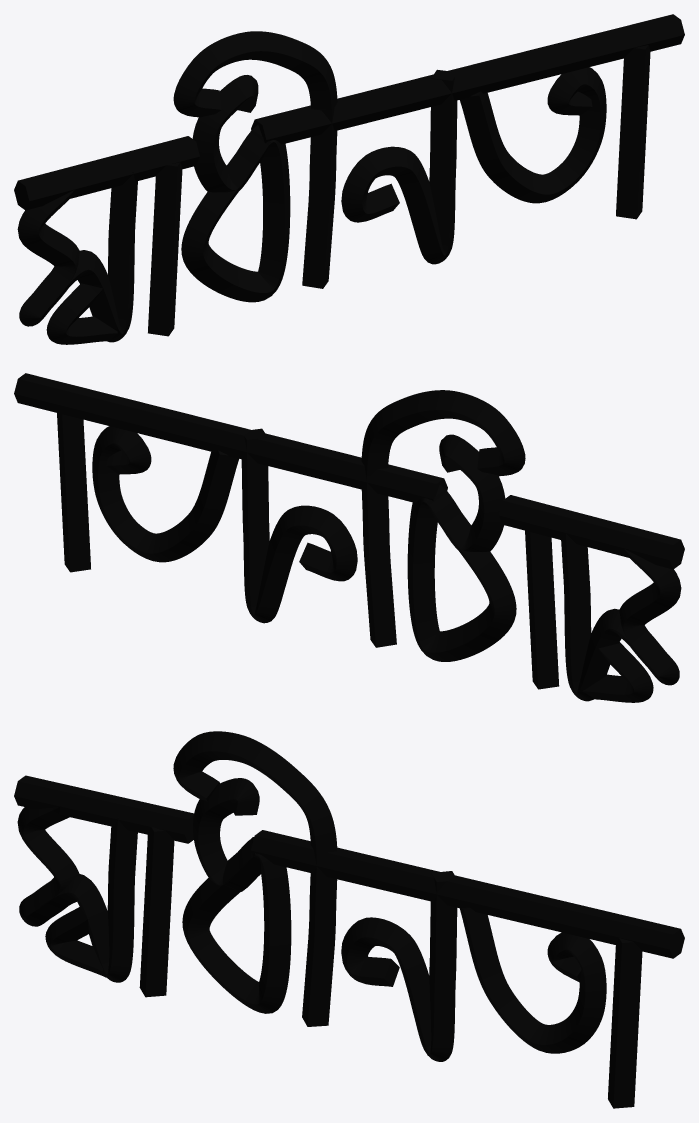
The model's file is shadhinota.glb.
3 views of the same model, one above another, from view 1: azimuth 30°, elevation 25°; view 2: azimuth 150°, elevation 25°; view 3: azimuth 330°, elevation 25° (orthographic).
Visible parts, largest first — view 1: mesh_id55, mesh_id61, mesh_id73, mesh_id79, mesh_id33, mesh_id87, mesh_id29, mesh_id94, mesh_id49, mesh_id39; view 2: mesh_id55, mesh_id61, mesh_id73, mesh_id79, mesh_id33, mesh_id87, mesh_id29, mesh_id94, mesh_id49, mesh_id39; view 3: mesh_id55, mesh_id61, mesh_id73, mesh_id33, mesh_id79, mesh_id87, mesh_id29, mesh_id94, mesh_id49, mesh_id39.
Boxes of the visible parts, x1,y1,x2,y2 form: mesh_id55: (181, 75, 290, 302); mesh_id61: (251, 14, 684, 144); mesh_id73: (173, 31, 337, 288); mesh_id79: (341, 69, 457, 264); mesh_id33: (17, 171, 137, 342); mesh_id87: (460, 67, 606, 203); mesh_id29: (14, 136, 199, 210); mesh_id94: (616, 45, 650, 219); mesh_id49: (148, 162, 182, 336); mesh_id39: (46, 283, 117, 344); mesh_id55: (407, 434, 516, 661); mesh_id61: (14, 373, 447, 502); mesh_id73: (361, 390, 525, 647); mesh_id79: (241, 428, 357, 623); mesh_id33: (561, 530, 681, 701); mesh_id87: (92, 426, 238, 562); mesh_id29: (499, 495, 684, 569); mesh_id94: (57, 413, 90, 572); mesh_id49: (525, 530, 559, 689); mesh_id39: (582, 642, 653, 702); mesh_id55: (182, 778, 291, 1013); mesh_id61: (251, 830, 684, 958); mesh_id73: (173, 731, 337, 1026); mesh_id33: (17, 805, 137, 982); mesh_id79: (341, 871, 457, 1061); mesh_id87: (459, 907, 606, 1053); mesh_id29: (14, 775, 194, 843); mesh_id94: (608, 938, 642, 1108); mesh_id49: (139, 827, 174, 997); mesh_id39: (45, 907, 106, 977).
Size of the model in its own units: 1.49 by 0.602 by 0.0801.
11 materials, 11 textured.
